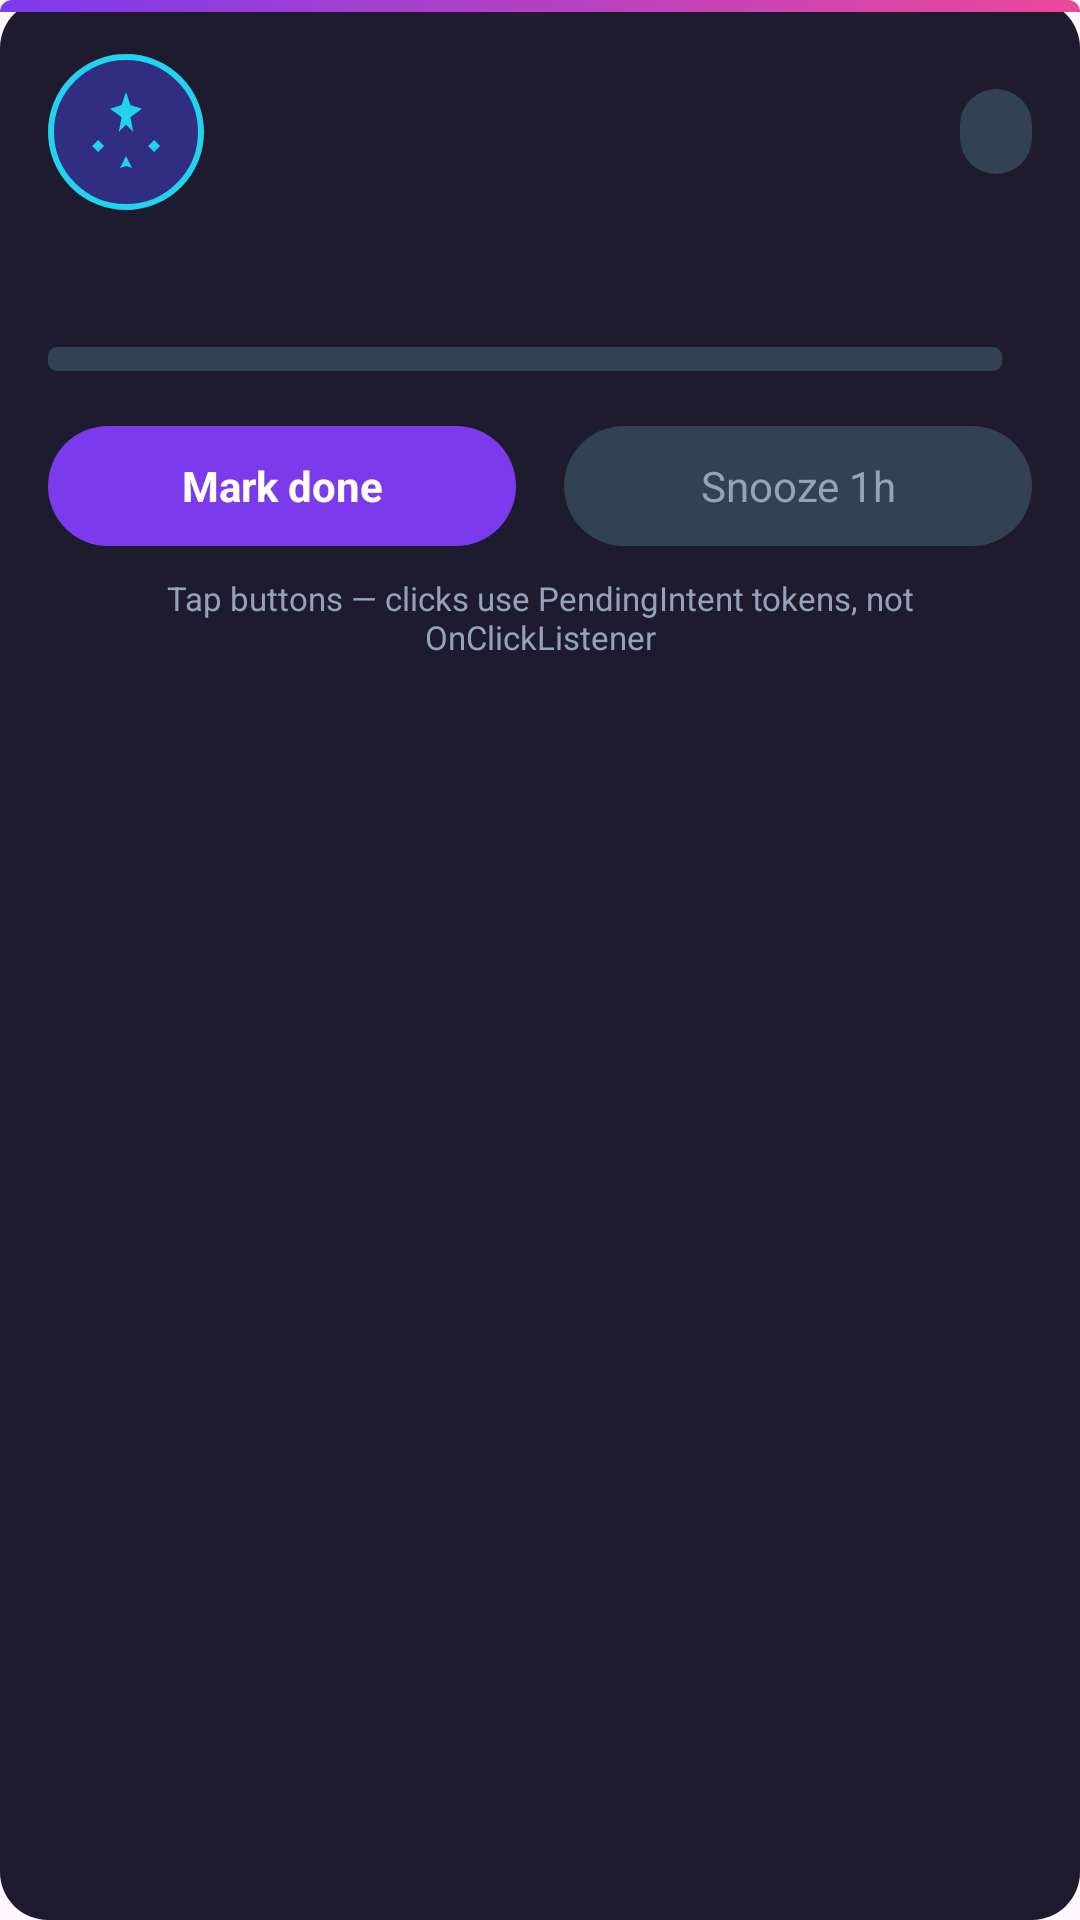

Where to tap for icons on this 1080w x 1920h app screen, as point (x, y):
Focus task icon: point (126, 130)
